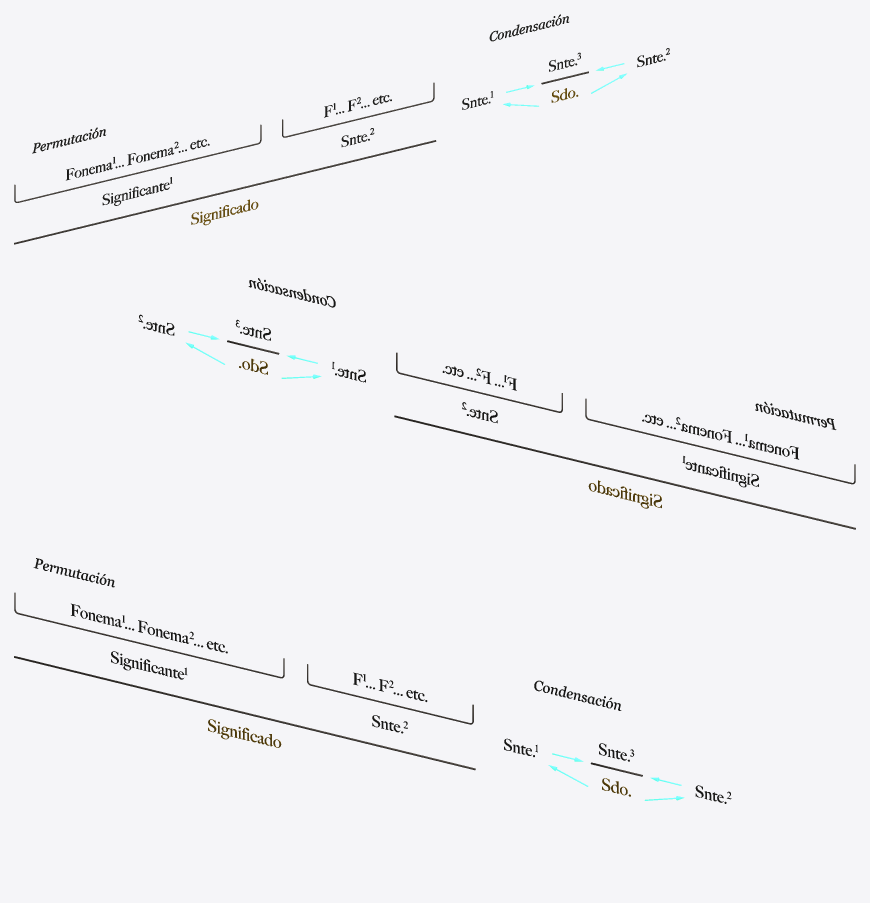
Rendered from condensacion.glb.
The picture shows the model from 3 angles, top to bottom: view 1: azimuth 30°, elevation 25°; view 2: azimuth 150°, elevation 25°; view 3: azimuth 330°, elevation 25°; orthographic projection. The views are drawn at different scales.
Visible parts, largest first — view 1: barra_plana, p_fonemas, corchete1_plano; view 2: barra_plana, p_fonemas, corchete1_plano, titulo_condensacion; view 3: barra_plana, p_fonemas, corchete1_plano.
Boxes of the visible parts, <box> form: barra_plana: <box>14,140,436,244</box>; p_fonemas: <box>66,139,209,180</box>; corchete1_plano: <box>14,124,261,202</box>; barra_plana: <box>394,415,855,529</box>; p_fonemas: <box>642,414,798,459</box>; corchete1_plano: <box>585,398,855,484</box>; titulo_condensacion: <box>248,278,335,307</box>; barra_plana: <box>14,656,475,770</box>; p_fonemas: <box>71,603,227,653</box>; corchete1_plano: <box>14,592,284,678</box>.
Bounding box in the file's own units: 8.01 × 1.18 × 0.705.
